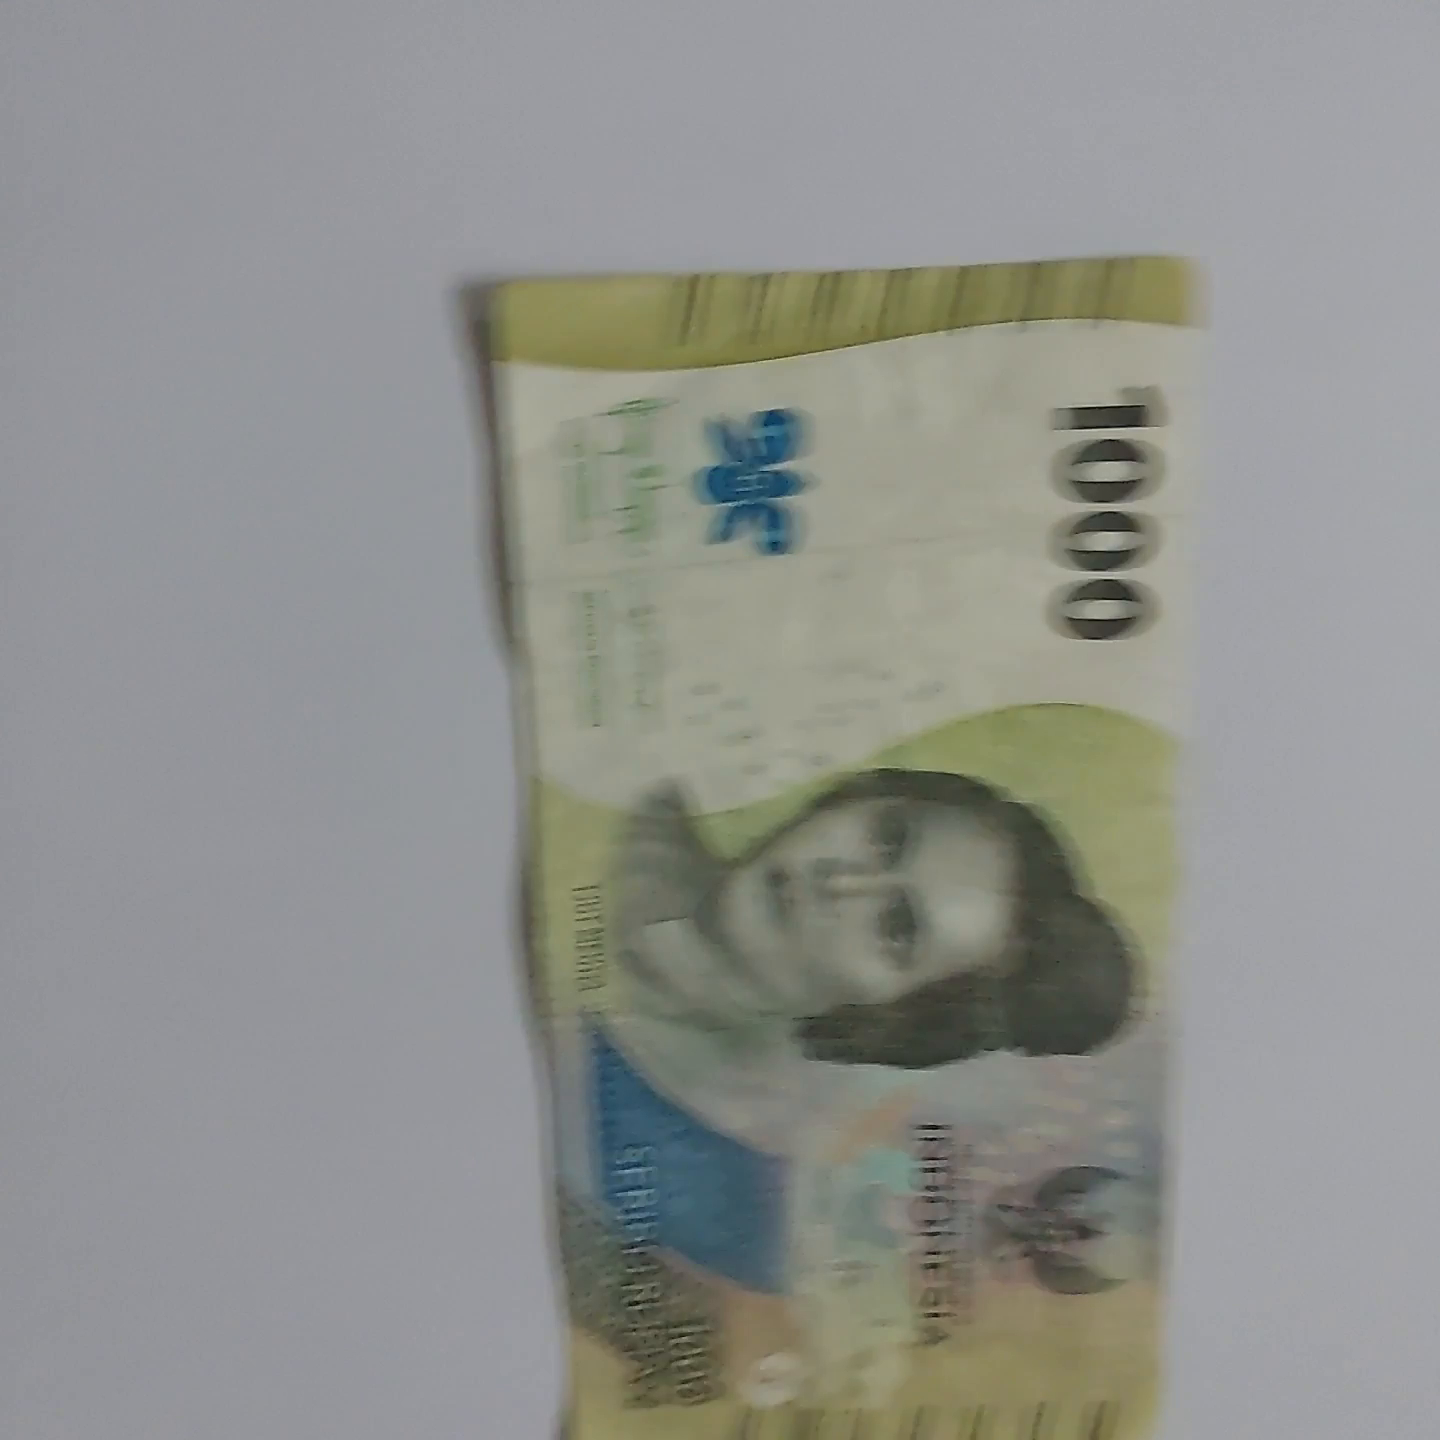1k: (463, 280, 1176, 1440)
